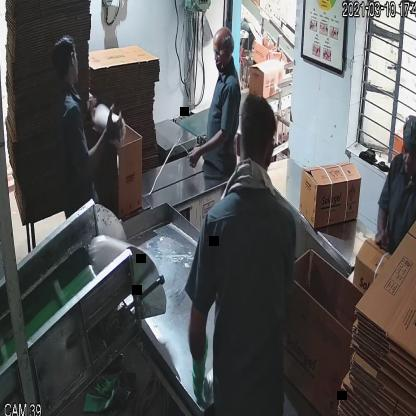no_glove: (74, 107, 132, 183), (182, 123, 230, 174), (376, 199, 389, 252)
